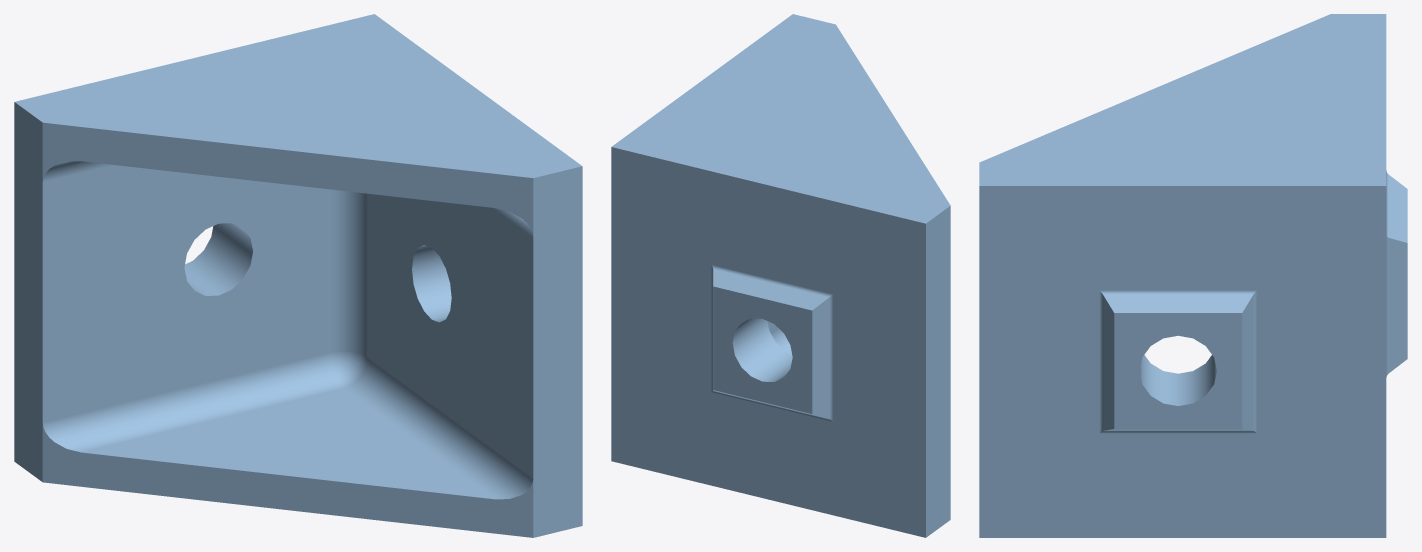
3 renders of one model, left to right at view 1: azimuth 30°, elevation 25°; view 2: azimuth 150°, elevation 25°; view 3: azimuth 270°, elevation 25°, orthographic. The views are drawn at different scales.
Parts seen in each view (by area): view 1: mesh235, mesh227, mesh242, mesh231, mesh229, mesh230, mesh238, mesh233, mesh226, mesh232, mesh236, mesh215 (+3 smaller); view 2: mesh225, mesh227, mesh226, mesh216, mesh215, mesh217, mesh224, mesh223, mesh222; view 3: mesh244, mesh227, mesh249, mesh218, mesh253, mesh243, mesh248, mesh251, mesh224, mesh247, mesh245, mesh250.
Boxes of the visible parts, x1,y1,x2,y2 form: mesh235: [42, 165, 329, 422]; mesh227: [15, 14, 581, 178]; mesh242: [368, 193, 533, 477]; mesh231: [82, 388, 493, 499]; mesh229: [533, 166, 582, 537]; mesh230: [42, 423, 533, 537]; mesh238: [42, 122, 533, 235]; mesh233: [43, 352, 342, 452]; mesh226: [14, 102, 42, 481]; mesh232: [343, 357, 533, 499]; mesh236: [329, 189, 367, 356]; mesh215: [184, 223, 252, 295]; mesh225: [611, 147, 925, 537]; mesh227: [611, 14, 950, 223]; mesh226: [926, 206, 950, 537]; mesh216: [713, 286, 812, 413]; mesh215: [732, 318, 792, 381]; mesh217: [812, 298, 828, 418]; mesh224: [713, 269, 828, 310]; mesh223: [829, 294, 833, 421]; mesh222: [711, 264, 832, 297]; mesh244: [979, 186, 1386, 537]; mesh227: [979, 14, 1386, 185]; mesh249: [1114, 313, 1242, 428]; mesh218: [1388, 238, 1407, 373]; mesh253: [1103, 295, 1252, 312]; mesh243: [1139, 355, 1216, 405]; mesh248: [1242, 295, 1253, 430]; mesh251: [1103, 295, 1114, 430]; mesh224: [1388, 175, 1407, 242]; mesh247: [1099, 290, 1256, 294]; mesh245: [1253, 290, 1257, 433]; mesh250: [1099, 291, 1103, 432].
Size of the model in its own units: 0.0463 by 0.042 by 0.0463.
